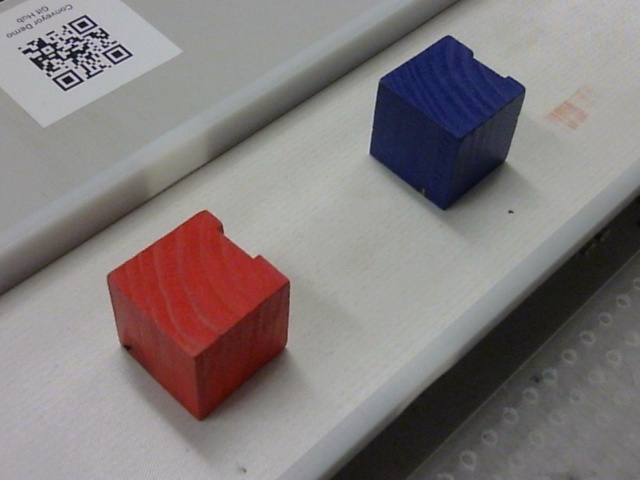BlueBlock: (368, 34, 527, 212)
RedBlock: (106, 209, 291, 421)
